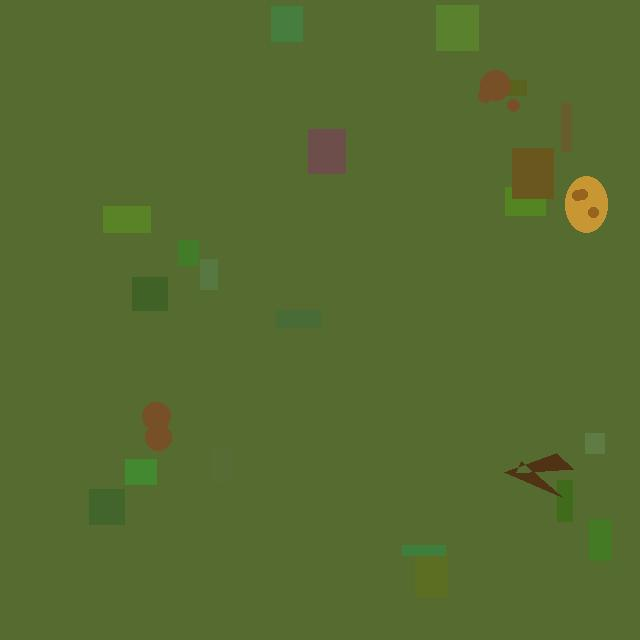damaged_crop: (565, 176, 607, 232)
disease: (493, 451, 573, 500)
pest_damage: (461, 68, 527, 124), (141, 401, 175, 463)
